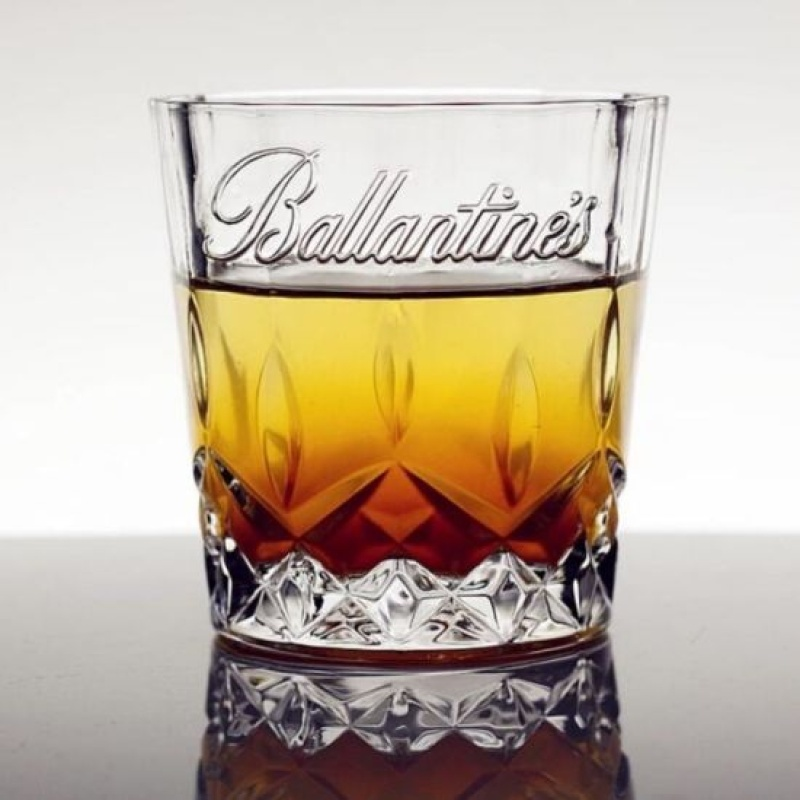whiskey: (149, 92, 652, 650)
